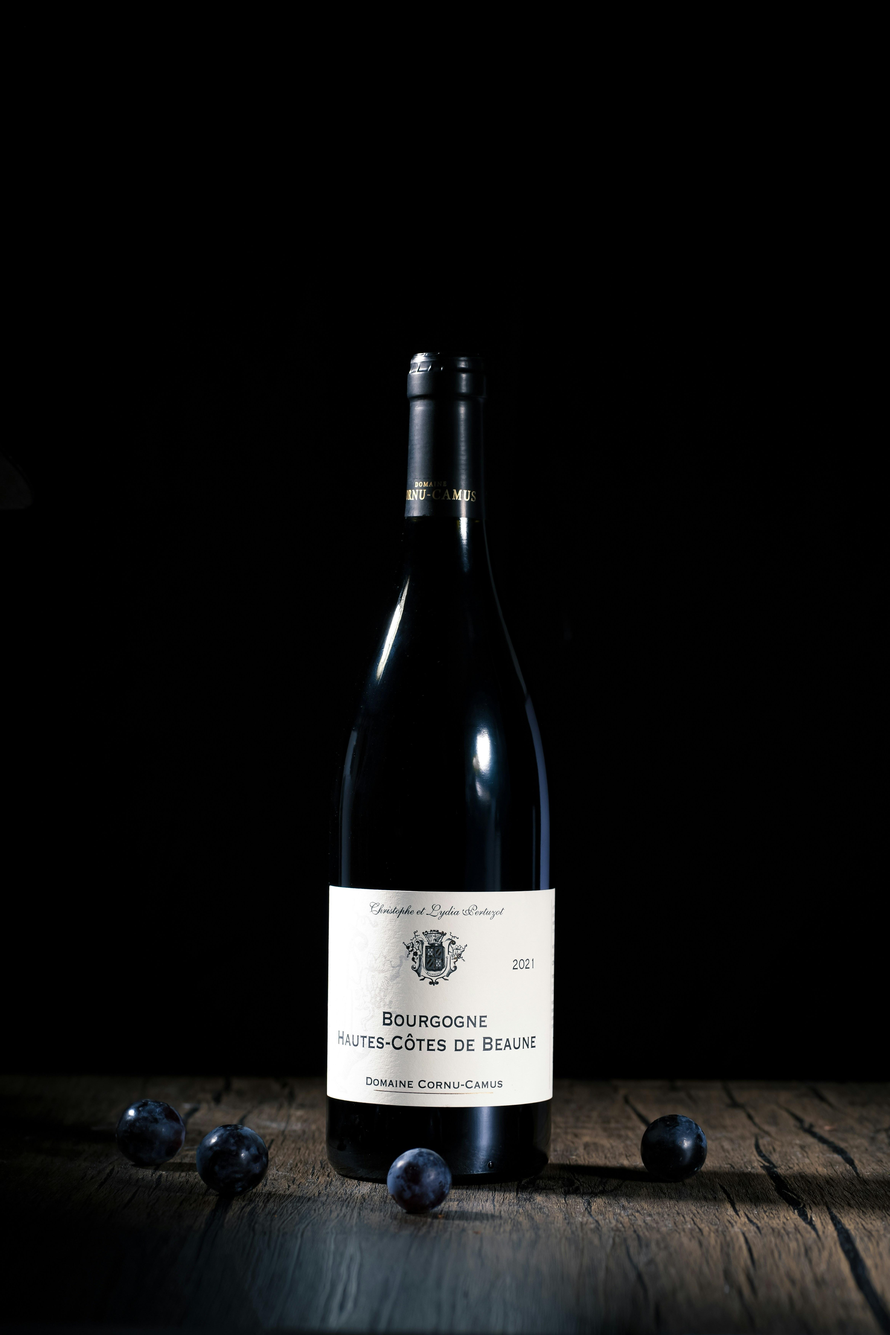Bottle-Detection: (253, 307, 657, 1236)
